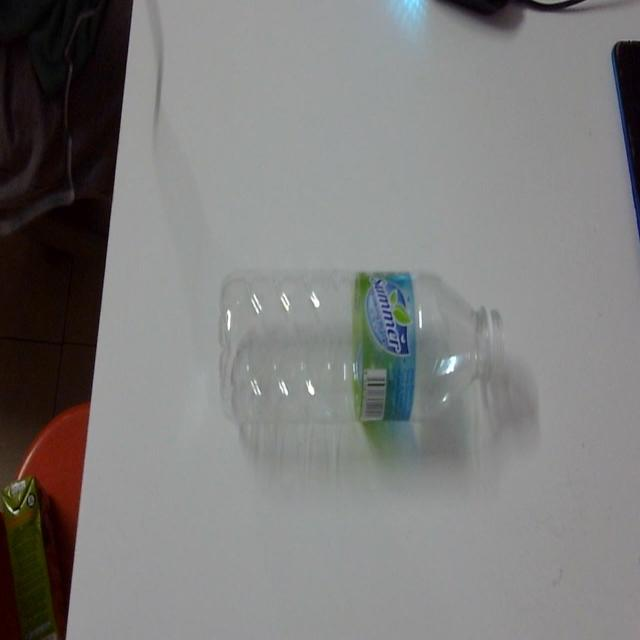plastic_laydown_0rotation: (219, 259, 512, 436)
